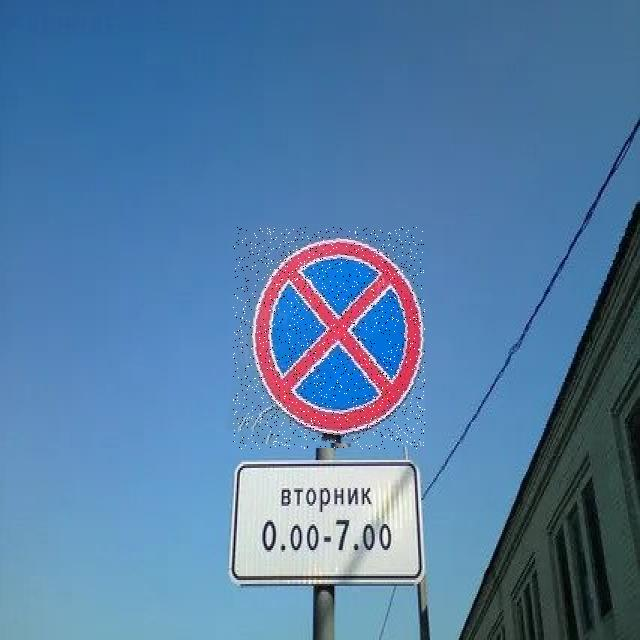no stopping: (233, 227, 425, 449)
